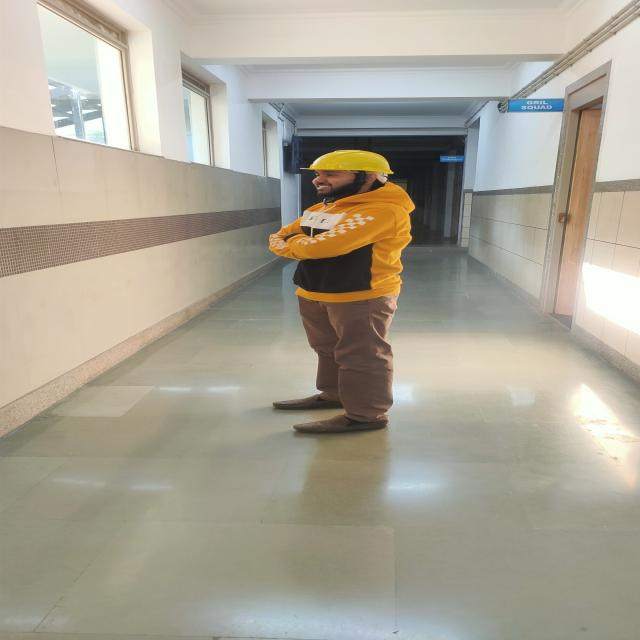no jacket: (266, 150, 416, 433)
